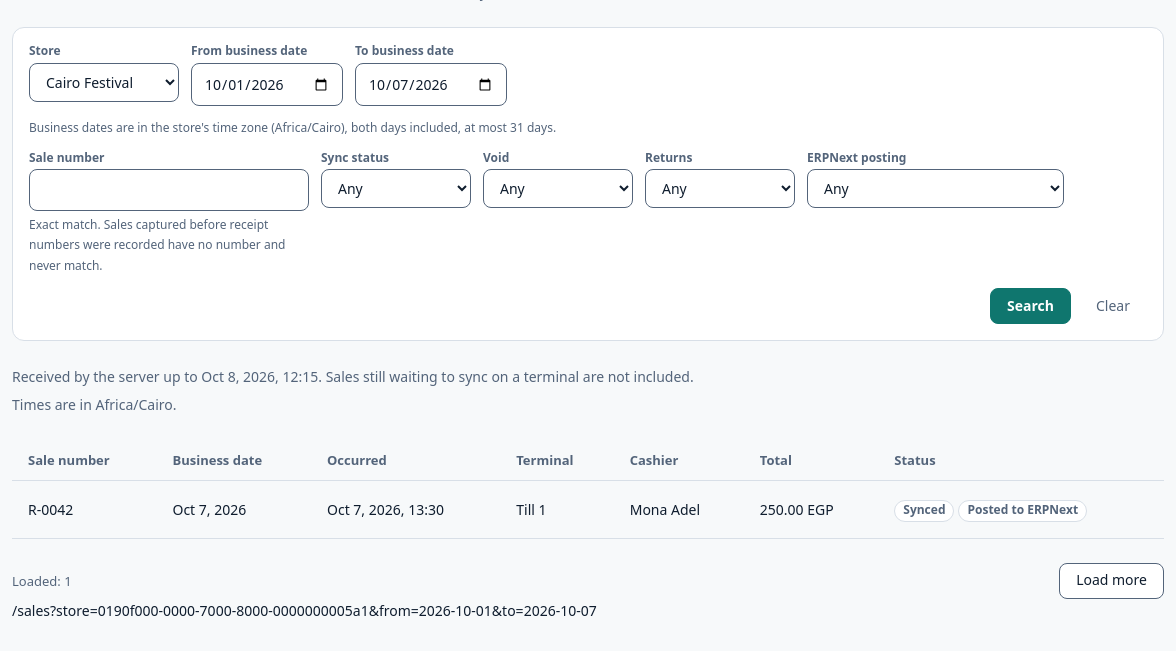
Test: SaleList (RT-587, spec 012 J1) › a failed continuation keeps the loaded rows and retries the next page
Click the button "Load more".
click(1112, 581)  # box [1059,563,1164,599]
(page scrolled)
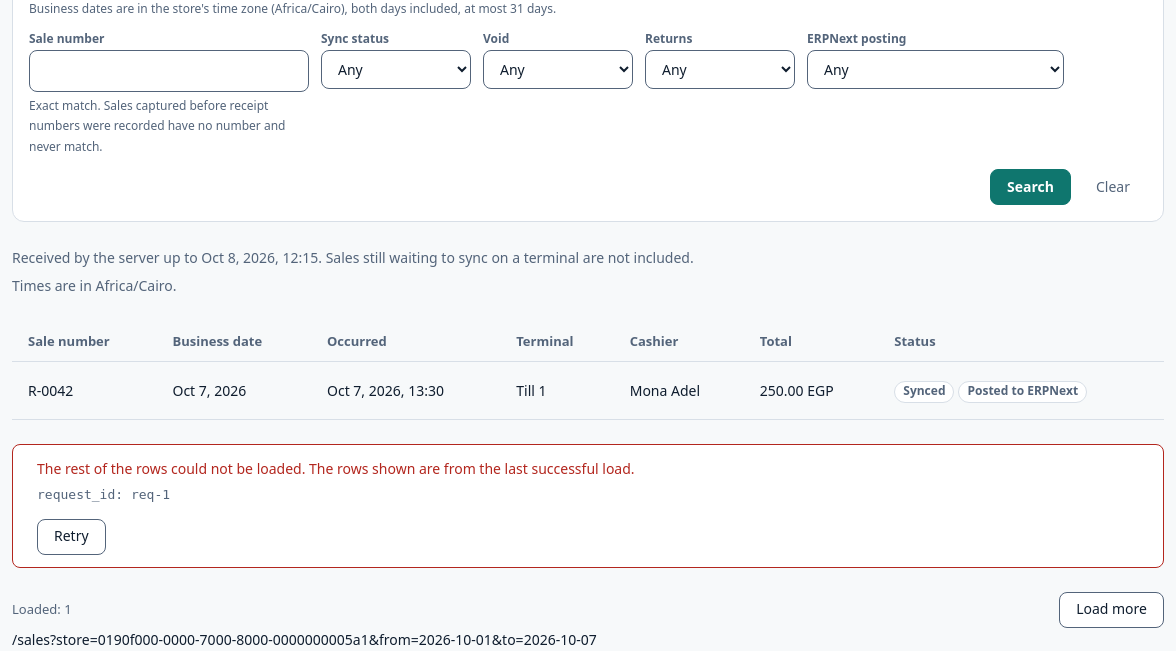
expect the text "R-0042" is shown: met, box [28,381,73,400]
expect the text "The rest of the rows could not be loaded" is shown: met, box [37,459,635,478]
Click the button "Retry".
click(71, 536)  # box [37,518,106,554]
(page scrolled)
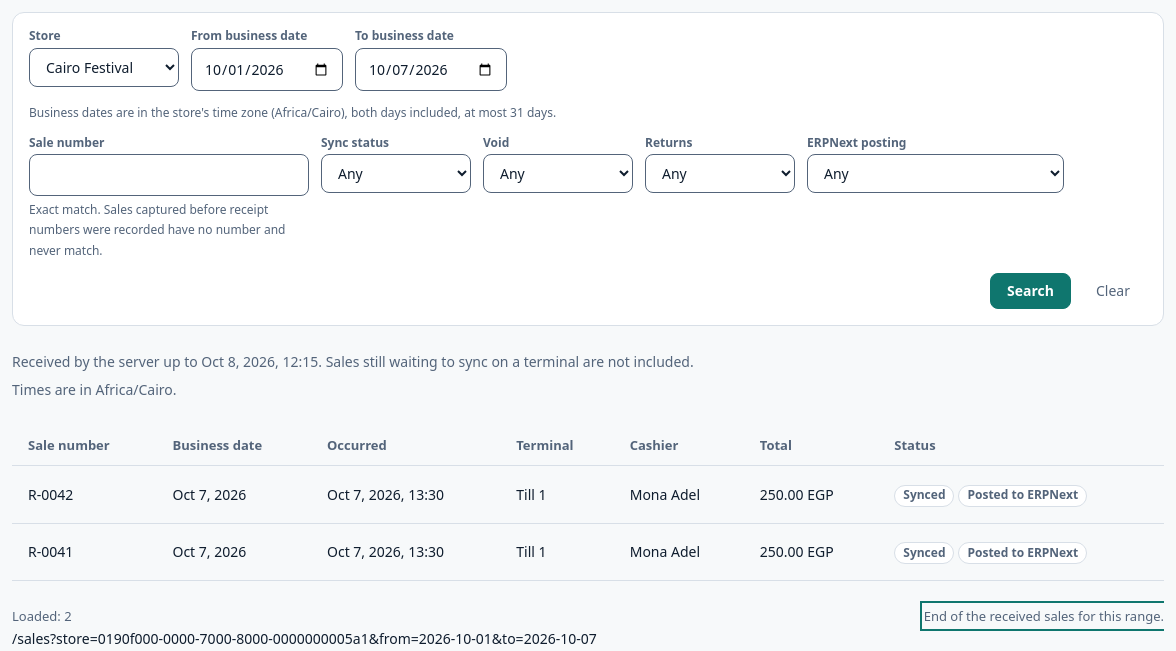
expect the text "R-0041" is shown: met, box [28,542,73,561]
